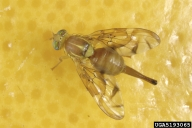Fruit fly: (38, 21, 160, 108)
